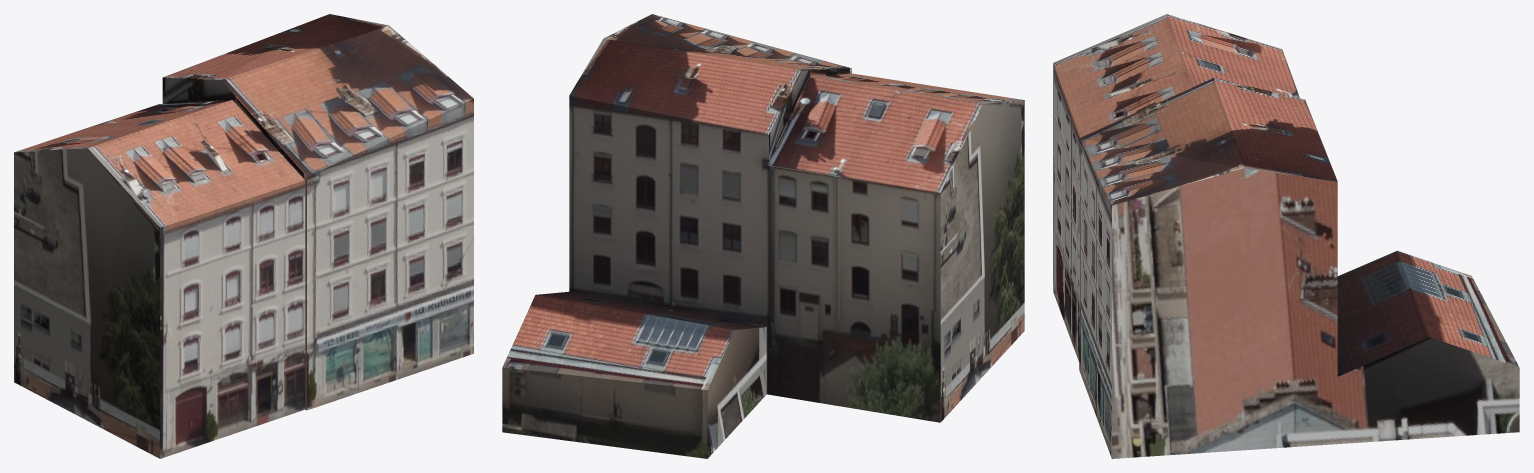
3 renders of one model, left to right at view 1: azimuth 30°, elevation 25°; view 2: azimuth 150°, elevation 25°; view 3: azimuth 270°, elevation 25°, orthographic.
Visible parts, largest first — view 1: Z_UP; view 2: Z_UP; view 3: Z_UP.
Part boxes in pixels (bbox=[...]): Z_UP: bbox=[14, 14, 473, 458]; Z_UP: bbox=[502, 14, 1024, 458]; Z_UP: bbox=[1053, 14, 1519, 458].
Bounding box in the file's own units: 26.72 × 19.45 × 29.
2 materials, 1 textured.
